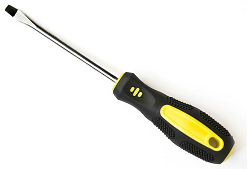screwdriver: (4, 5, 234, 165)
